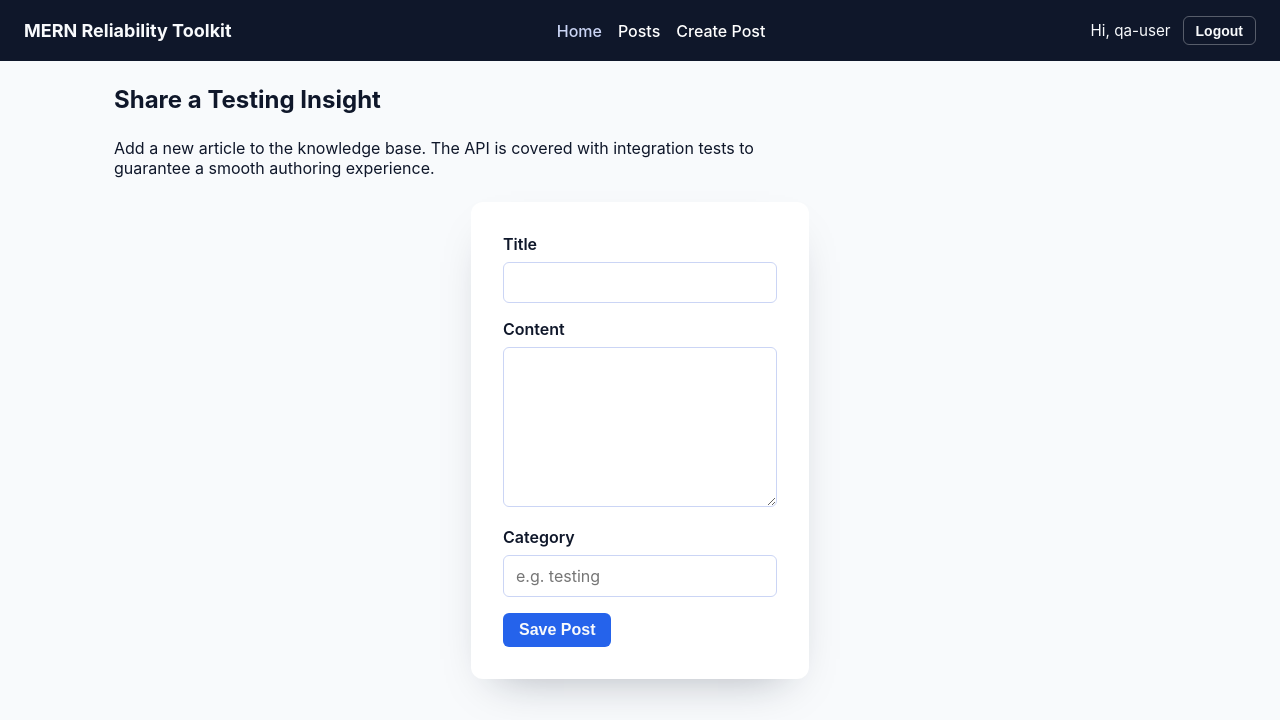
Posts CRUD Operations E2E Tests › should handle form validation errors
Click the submit button: point(558, 630) x1=503 y1=613 x2=612 y2=647
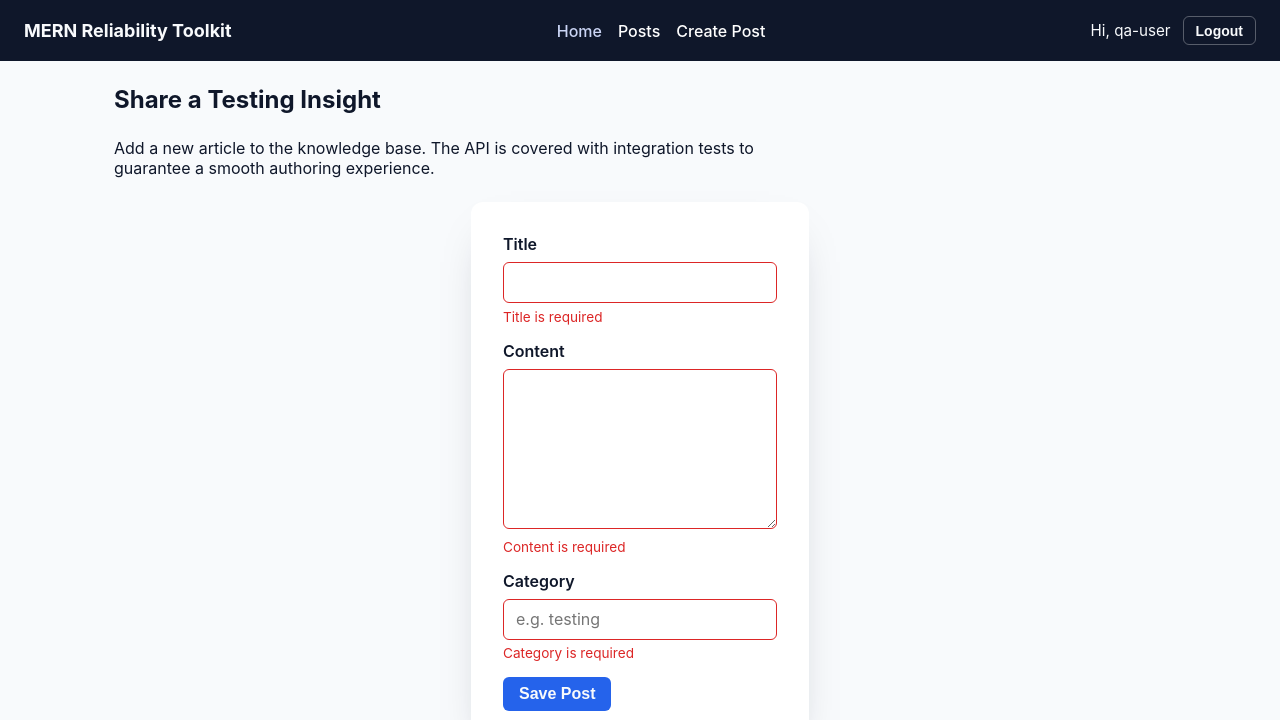
Result: the text "Title is required" is shown at x1=503 y1=309 x2=602 y2=325
Result: the text "Content is required" is shown at x1=503 y1=539 x2=626 y2=555
Result: the text "Category is required" is shown at x1=503 y1=645 x2=634 y2=661
